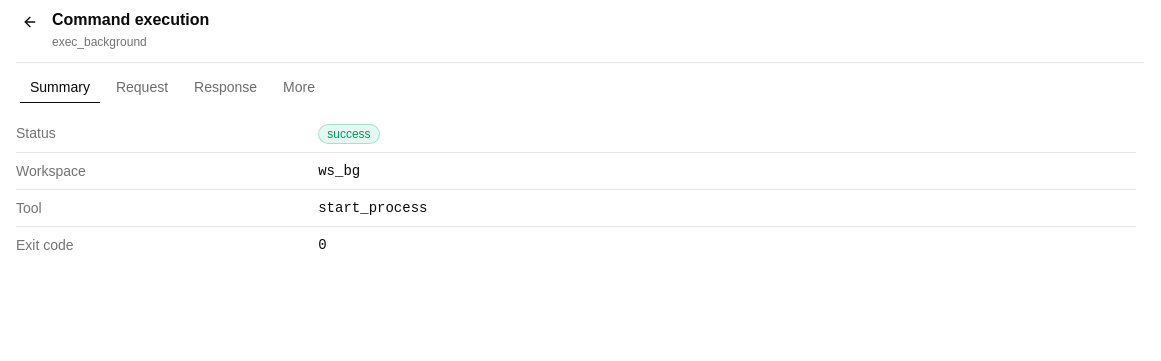
Test: Telegram Activity Mini App › opens a background-process execution deep link directly in Commands detail
Expected: the text "Command execution" is shown, [52, 11, 209, 28]
Expected: the text "exec_background" is shown, [52, 35, 147, 49]
Click the tab "Response" at (226, 87), box [183, 74, 268, 100]
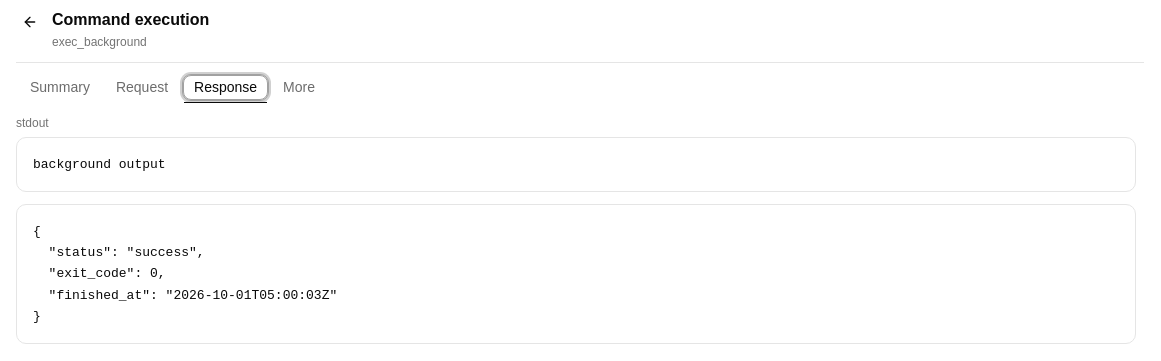
Result: the text "background output" is shown at [33, 157, 166, 172]
